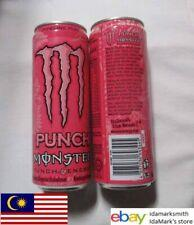metal: (33, 19, 155, 190)
